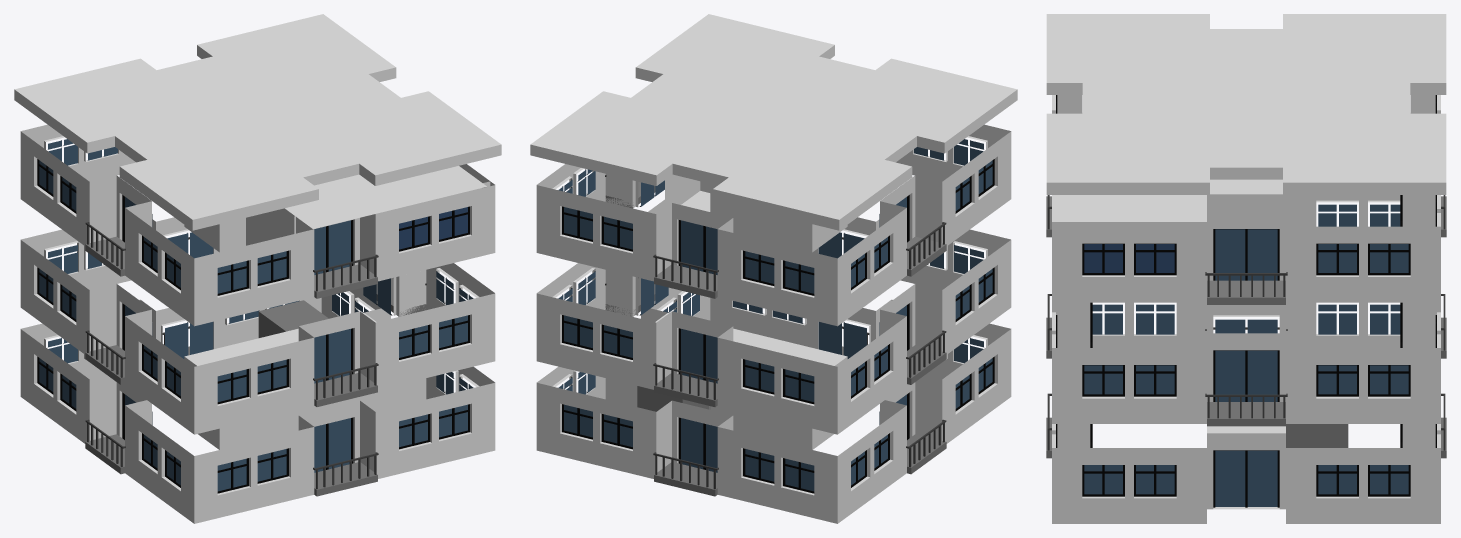
The model's file is PlayerHouse2.fbx.
3 views of the same model, side by side, from view 1: azimuth 30°, elevation 25°; view 2: azimuth 150°, elevation 25°; view 3: azimuth 270°, elevation 25° (orthographic). The views are drawn at different scales.
Parts seen in each view (by area): view 1: Apt10_Roof, Apt10_Floor_Main, Apt10_Base_Main, Apt10_House_Main, Apt10_Base_Windows, Apt10_Floor_Windows, Apt10_House_Floor, Apt10_Base_Hall, Apt10_House_Windows, Apt10_Floor_Frame, Apt10_Base_Frame, Apt10_Floor_Platform (+12 smaller); view 2: Apt10_Roof, Apt10_Base_Main, Apt10_Floor_Main, Apt10_House_Main, Apt10_Base_Windows, Apt10_Floor_Windows, Apt10_House_Windows, Apt10_House_Hall, Apt10_Base_Hall, Apt10_Floor_Frame, Apt10_House_Frame, Apt10_Base_Frame (+7 smaller); view 3: Apt10_Roof, Apt10_Base_Main, Apt10_Floor_Main, Apt10_House_Main, Apt10_Base_Windows, Apt10_Floor_Windows, Apt10_House_Windows, Apt10_House_Floor, Apt10_Floor_Frame, Apt10_House_Frame, Apt10_House_Hall, Apt10_Floor_Platform (+10 smaller).
Part boxes in pixels (x1=…): Apt10_Roof: x1=14, y1=14, x2=501, y2=230; Apt10_Floor_Main: x1=20, y1=217, x2=495, y2=434; Apt10_Base_Main: x1=20, y1=287, x2=495, y2=523; Apt10_House_Main: x1=20, y1=124, x2=495, y2=326; Apt10_Base_Windows: x1=39, y1=292, x2=473, y2=491; Apt10_Floor_Windows: x1=39, y1=232, x2=473, y2=401; Apt10_House_Floor: x1=285, y1=166, x2=486, y2=228; Apt10_Base_Hall: x1=184, y1=312, x2=399, y2=449; Apt10_House_Windows: x1=39, y1=139, x2=286, y2=293; Apt10_Floor_Frame: x1=37, y1=233, x2=469, y2=404; Apt10_Base_Frame: x1=37, y1=295, x2=469, y2=493; Apt10_Floor_Platform: x1=85, y1=278, x2=426, y2=406; Apt10_Roof: x1=530, y1=14, x2=1017, y2=230; Apt10_Base_Main: x1=536, y1=287, x2=1011, y2=523; Apt10_Floor_Main: x1=536, y1=199, x2=1011, y2=434; Apt10_House_Main: x1=536, y1=124, x2=1011, y2=326; Apt10_Base_Windows: x1=558, y1=292, x2=992, y2=491; Apt10_Floor_Windows: x1=558, y1=232, x2=992, y2=401; Apt10_House_Windows: x1=558, y1=139, x2=992, y2=293; Apt10_House_Hall: x1=665, y1=174, x2=847, y2=252; Apt10_Base_Hall: x1=632, y1=312, x2=847, y2=449; Apt10_Floor_Frame: x1=562, y1=233, x2=994, y2=404; Apt10_House_Frame: x1=562, y1=140, x2=994, y2=295; Apt10_Base_Frame: x1=562, y1=295, x2=994, y2=493; Apt10_Roof: x1=1046, y1=14, x2=1446, y2=194; Apt10_Base_Main: x1=1052, y1=302, x2=1440, y2=523; Apt10_Floor_Main: x1=1052, y1=195, x2=1440, y2=423; Apt10_House_Main: x1=1052, y1=95, x2=1440, y2=302; Apt10_Base_Windows: x1=1084, y1=304, x2=1408, y2=494; Apt10_Floor_Windows: x1=1084, y1=204, x2=1408, y2=401; Apt10_House_Windows: x1=1215, y1=229, x2=1408, y2=280; Apt10_House_Floor: x1=1052, y1=195, x2=1206, y2=221; Apt10_Floor_Frame: x1=1056, y1=302, x2=1436, y2=401; Apt10_House_Frame: x1=1056, y1=95, x2=1436, y2=280; Apt10_House_Hall: x1=1207, y1=179, x2=1285, y2=211; Apt10_Floor_Platform: x1=1046, y1=317, x2=1446, y2=426.
Size of the model in its own units: 1419 by 1342 by 1419.
